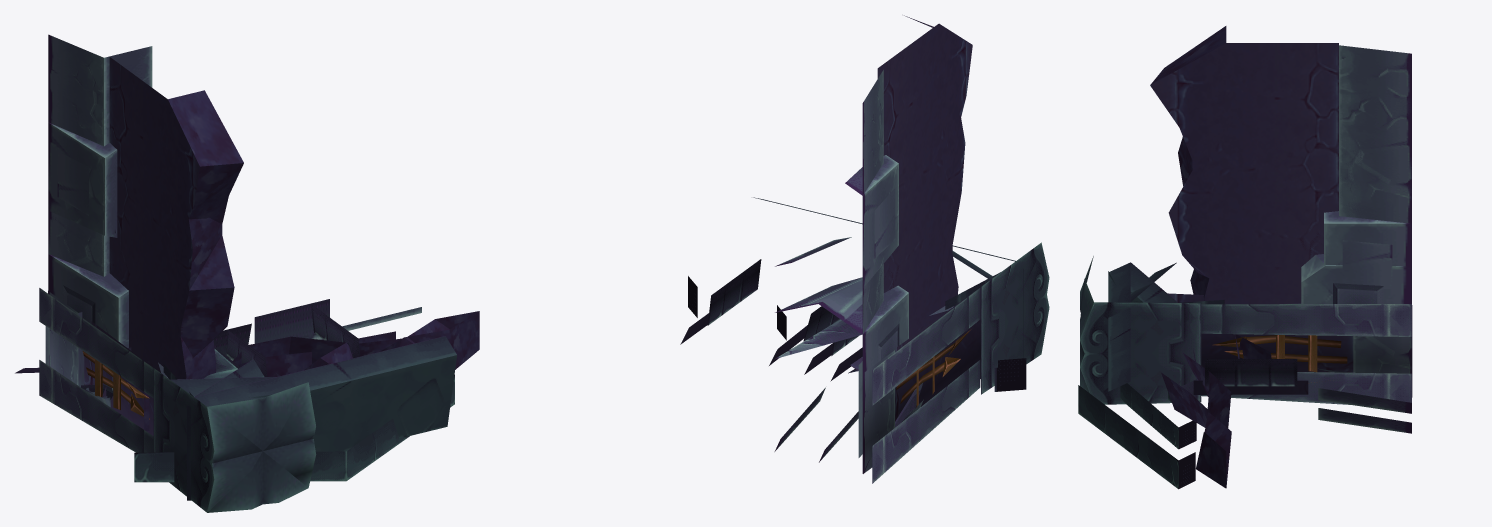
File: walls.glb
3 views of the same model, side by side, from view 1: azimuth 30°, elevation 25°; view 2: azimuth 150°, elevation 25°; view 3: azimuth 270°, elevation 25° (orthographic). The views are drawn at different scales.
Parts seen in each view (by area): view 1: rsrc.world.tileset.graveyard.walls-Variant[wall_thin_vert_x4 (×6), rsrc.world.tileset.graveyard.walls-Variant[column_01]-Submes (×2), rsrc.world.tileset.graveyard.walls-Variant[wall_arch_Three_0 (×3), rsrc.world.tileset.graveyard.walls-Variant[wall_thin_vert_x2 (×4), rsrc.world.tileset.graveyard.walls-Variant[wall_thin_horiz_x (×4), rsrc.world.tileset.graveyard.walls-Variant[corner_in_01]-Sub (×3), rsrc.world.tileset.graveyard.walls-Variant[wall_arch_Two_01], rsrc.world.tileset.graveyard.walls-Variant[wall_thin_vert_En (×2), rsrc.world.tileset.graveyard.walls-Variant[wall_arch_Two_02], rsrc.world.tileset.graveyard.walls-Variant[wall_arch_01]-Sub, rsrc.world.tileset.graveyard.walls-Variant[wall_stair_01_L]-, rsrc.world.tileset.graveyard.walls-Variant[wall_stair_01_R]- (+1 smaller); view 2: rsrc.world.tileset.graveyard.walls-Variant[wall_thin_vert_x4 (×4), rsrc.world.tileset.graveyard.walls-Variant[column_01]-Submes (×2), rsrc.world.tileset.graveyard.walls-Variant[wall_thin_vert_x2 (×2), rsrc.world.tileset.graveyard.walls-Variant[corner_in_01]-Sub (×2), rsrc.world.tileset.graveyard.walls-Variant[wall_arch_Three_0 (×2), rsrc.world.tileset.graveyard.walls-Variant[corner_out_02]-Su, rsrc.world.tileset.graveyard.walls-Variant[wall_thin_vert_x3, rsrc.world.tileset.graveyard.walls-Variant[wall_thin_vert_En, rsrc.world.tileset.graveyard.walls-Variant[wall_arch_Two_02]; view 3: rsrc.world.tileset.graveyard.walls-Variant[wall_thin_vert_x4 (×6), rsrc.world.tileset.graveyard.walls-Variant[column_01]-Submes (×4), rsrc.world.tileset.graveyard.walls-Variant[wall_thin_vert_x3 (×2), rsrc.world.tileset.graveyard.walls-Variant[wall_thin_vert_x2 (×3), rsrc.world.tileset.graveyard.walls-Variant[wall_arch_Three_0 (×4), rsrc.world.tileset.graveyard.walls-Variant[wall_thin_horiz_x (×3), rsrc.world.tileset.graveyard.walls-Variant[wall_thin_vert_En, rsrc.world.tileset.graveyard.walls-Variant[wall_arch_Two_01] (×2), rsrc.world.tileset.graveyard.walls-Variant[wall_stair_01_R]-, rsrc.world.tileset.graveyard.walls-Variant[wall_arch_01]-Sub, rsrc.world.tileset.graveyard.walls-Variant[wall_thin_vert_A0.
Boxes of the visible parts, x1,y1,x2,y2 form: rsrc.world.tileset.graveyard.walls-Variant[wall_thin_vert_x4 (×6): (48,34,243,375); rsrc.world.tileset.graveyard.walls-Variant[column_01]-Submes (×2): (39,288,316,512); rsrc.world.tileset.graveyard.walls-Variant[wall_arch_Three_0 (×3): (134,299,456,482); rsrc.world.tileset.graveyard.walls-Variant[wall_thin_vert_x2 (×4): (48,230,215,379); rsrc.world.tileset.graveyard.walls-Variant[wall_thin_horiz_x (×4): (144,311,479,430); rsrc.world.tileset.graveyard.walls-Variant[corner_in_01]-Sub (×3): (48,291,315,463); rsrc.world.tileset.graveyard.walls-Variant[wall_arch_Two_01]: (203,356,373,451); rsrc.world.tileset.graveyard.walls-Variant[wall_thin_vert_En (×2): (48,211,167,337); rsrc.world.tileset.graveyard.walls-Variant[wall_arch_Two_02]: (213,323,267,376); rsrc.world.tileset.graveyard.walls-Variant[wall_arch_01]-Sub: (194,377,285,406); rsrc.world.tileset.graveyard.walls-Variant[wall_stair_01_L]-: (15,368,277,396); rsrc.world.tileset.graveyard.walls-Variant[wall_stair_01_R]-: (194,359,264,397); rsrc.world.tileset.graveyard.walls-Variant[wall_thin_vert_x4 (×4): (775,23,972,319); rsrc.world.tileset.graveyard.walls-Variant[column_01]-Submes (×2): (872,242,1049,483); rsrc.world.tileset.graveyard.walls-Variant[wall_thin_vert_x2 (×2): (775,209,958,427); rsrc.world.tileset.graveyard.walls-Variant[corner_in_01]-Sub (×2): (863,287,980,473); rsrc.world.tileset.graveyard.walls-Variant[wall_arch_Three_0 (×2): (688,259,1026,391); rsrc.world.tileset.graveyard.walls-Variant[corner_out_02]-Su: (774,306,953,424); rsrc.world.tileset.graveyard.walls-Variant[wall_thin_vert_x3: (883,235,929,322); rsrc.world.tileset.graveyard.walls-Variant[wall_thin_vert_En: (862,266,883,473); rsrc.world.tileset.graveyard.walls-Variant[wall_arch_Two_02]: (803,306,840,341); rsrc.world.tileset.graveyard.walls-Variant[wall_thin_vert_x4 (×6): (1150,26,1411,304); rsrc.world.tileset.graveyard.walls-Variant[column_01]-Submes (×4): (1080,256,1412,404); rsrc.world.tileset.graveyard.walls-Variant[wall_thin_vert_x3 (×2): (1225,128,1411,303); rsrc.world.tileset.graveyard.walls-Variant[wall_thin_vert_x2 (×3): (1204,212,1411,303); rsrc.world.tileset.graveyard.walls-Variant[wall_arch_Three_0 (×4): (1078,263,1411,489); rsrc.world.tileset.graveyard.walls-Variant[wall_thin_horiz_x (×3): (1161,334,1271,488); rsrc.world.tileset.graveyard.walls-Variant[wall_thin_vert_En: (1227,212,1323,290); rsrc.world.tileset.graveyard.walls-Variant[wall_arch_Two_01] (×2): (1108,263,1411,449); rsrc.world.tileset.graveyard.walls-Variant[wall_stair_01_R]-: (1130,262,1177,302); rsrc.world.tileset.graveyard.walls-Variant[wall_arch_01]-Sub: (1108,262,1130,302); rsrc.world.tileset.graveyard.walls-Variant[wall_thin_vert_A0: (1225,297,1289,304).
Bounding box in the file's own units: 4.42 × 4.14 × 4.26.
6 materials, 6 textured.
